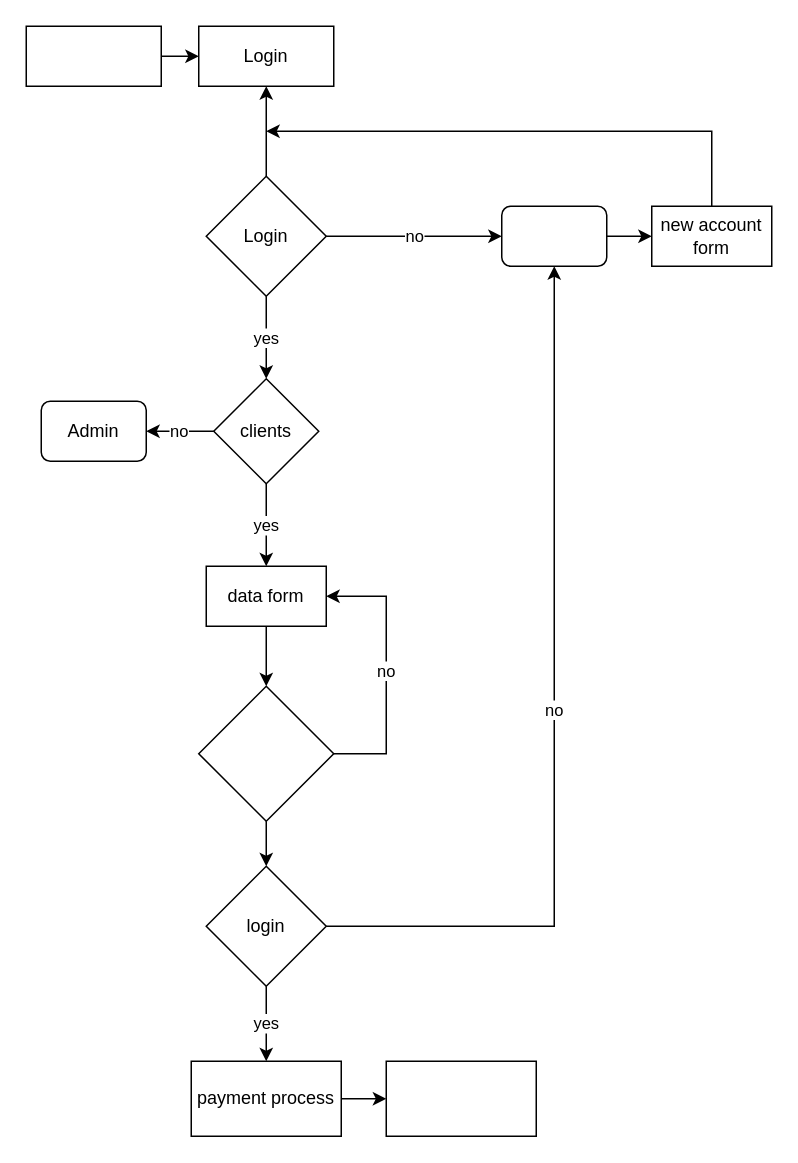
This 798x1163 diagram has some shape labels left out. Here are the shapes that lost their labels. From the top down, the centre of each, then its label:
At (93,55): "User".
At (553,235): "Sign up".
At (265,753): "completed form".
At (460,1098): "payment notification".
